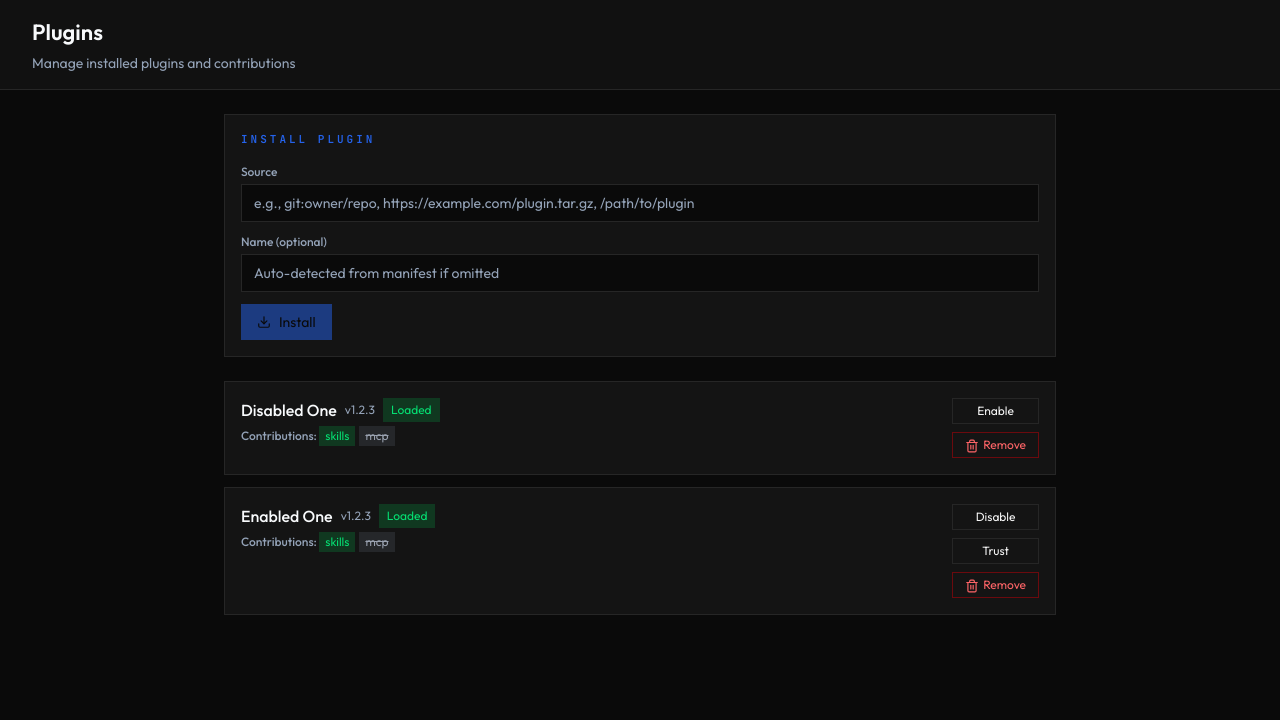
Test: PluginsScreen › Trust button only shows when enabled and opens the trust modal
The width and height of the screenshot is (1280, 720).
Check: the heading "Enabled One" is shown, box x1=241 y1=504 x2=333 y2=528
What coordinates should you click on to do the following:
click the button "Trust"
I would click on:
 (996, 551)
Its box is x1=952 y1=538 x2=1039 y2=564.
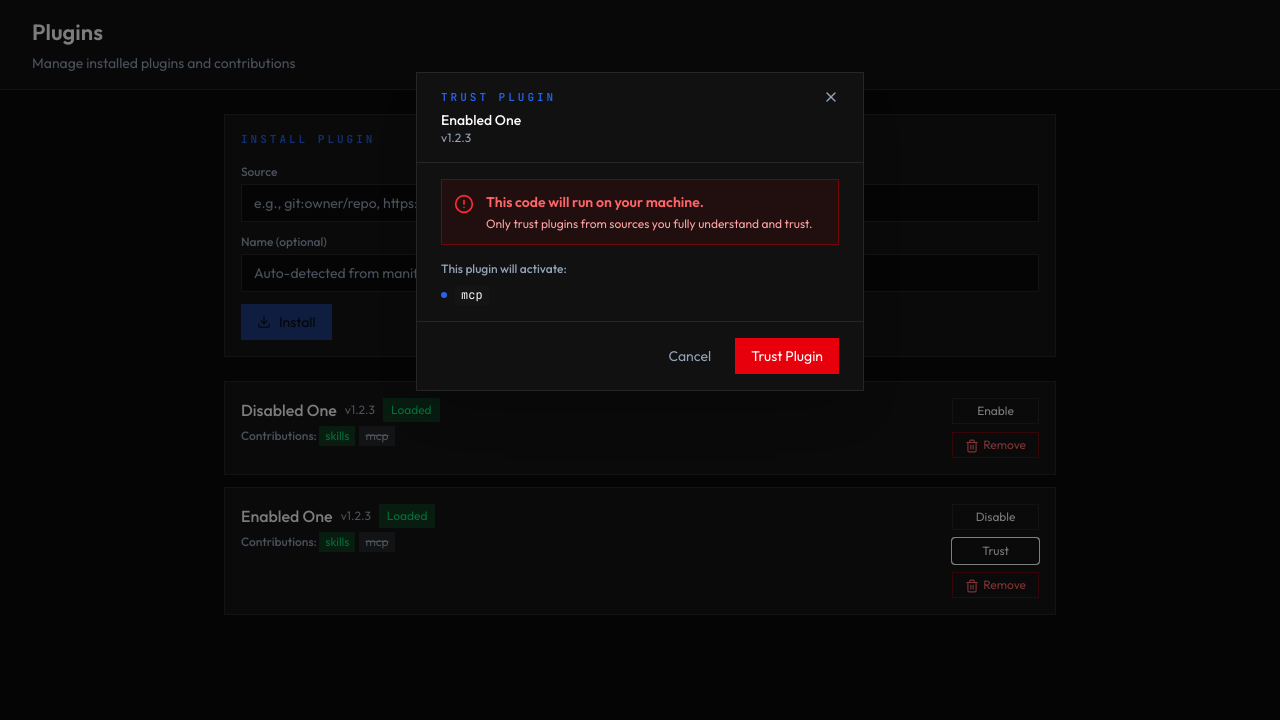
Check: the text "This code will run on your machine." is shown, box x1=486 y1=192 x2=704 y2=210
Check: the button "Trust Plugin" is shown, box x1=735 y1=338 x2=839 y2=374
